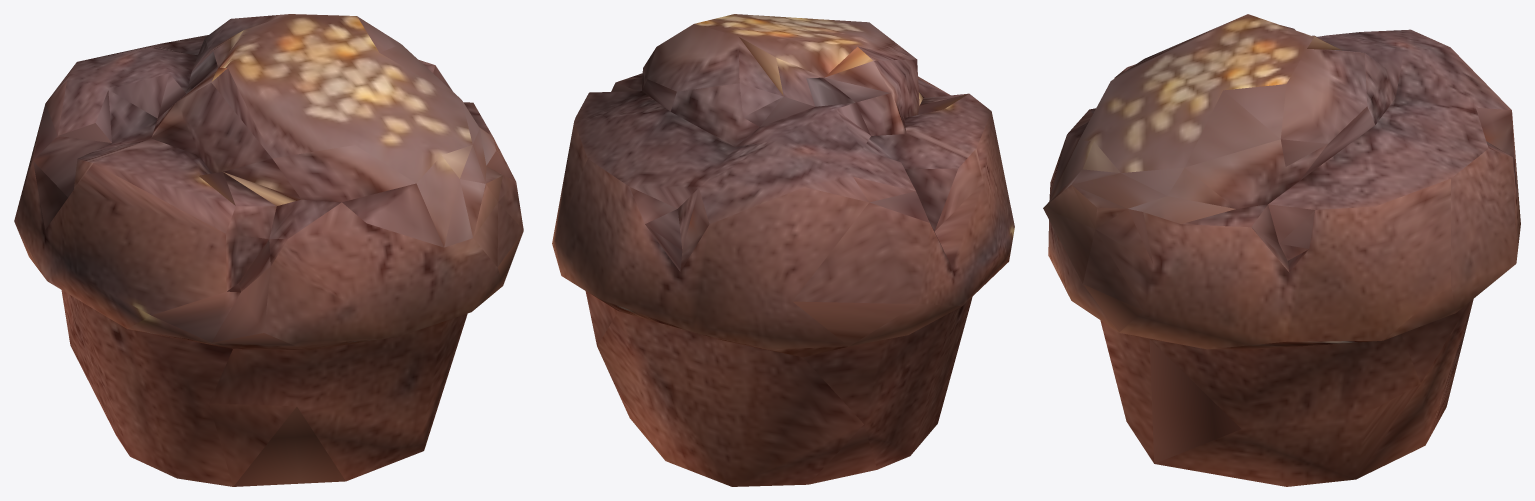
File: muffin_284.obj
The picture shows the model from 3 angles, left to right: view 1: azimuth 30°, elevation 25°; view 2: azimuth 150°, elevation 25°; view 3: azimuth 270°, elevation 25°; orthographic projection. The views are drawn at different scales.
Size of the model in its own units: 14.13 by 12.94 by 14.38.
1 material, 1 textured.
